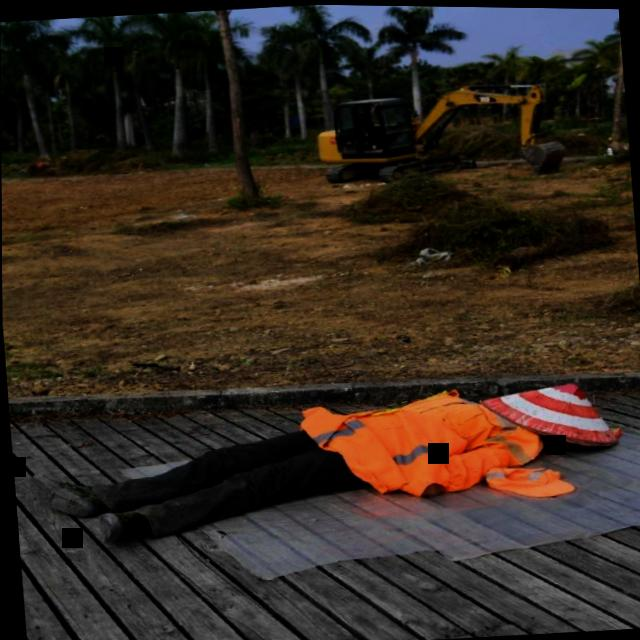Fall-Detected: (33, 348, 627, 548)
